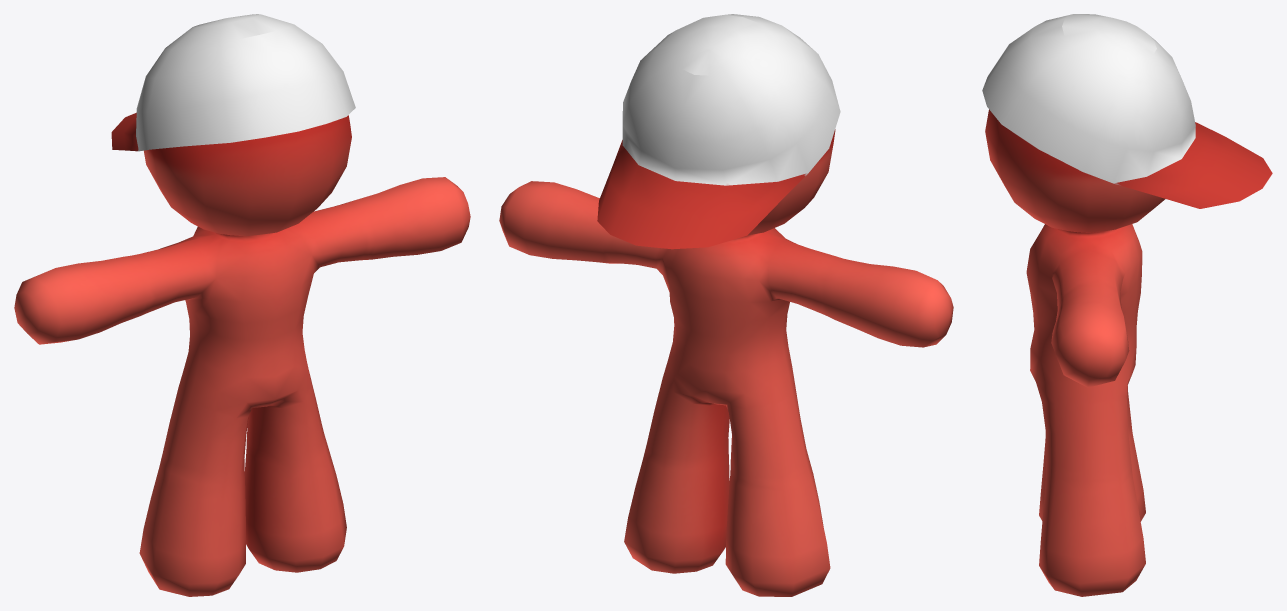
The model's file is Model_Stickman_Red.fbx.
The picture shows the model from 3 angles, left to right: view 1: azimuth 30°, elevation 25°; view 2: azimuth 150°, elevation 25°; view 3: azimuth 270°, elevation 25°; orthographic projection. The views are drawn at different scales.
Parts seen in each view (by area): view 1: Model_Stickman_Red; view 2: Model_Stickman_Red; view 3: Model_Stickman_Red.
Part boxes in pixels (box(x1,y1,x2,y2)): Model_Stickman_Red: box(14, 14, 470, 596); Model_Stickman_Red: box(499, 14, 953, 596); Model_Stickman_Red: box(982, 14, 1272, 596).
Size of the model in its own units: 218 by 258 by 127.
